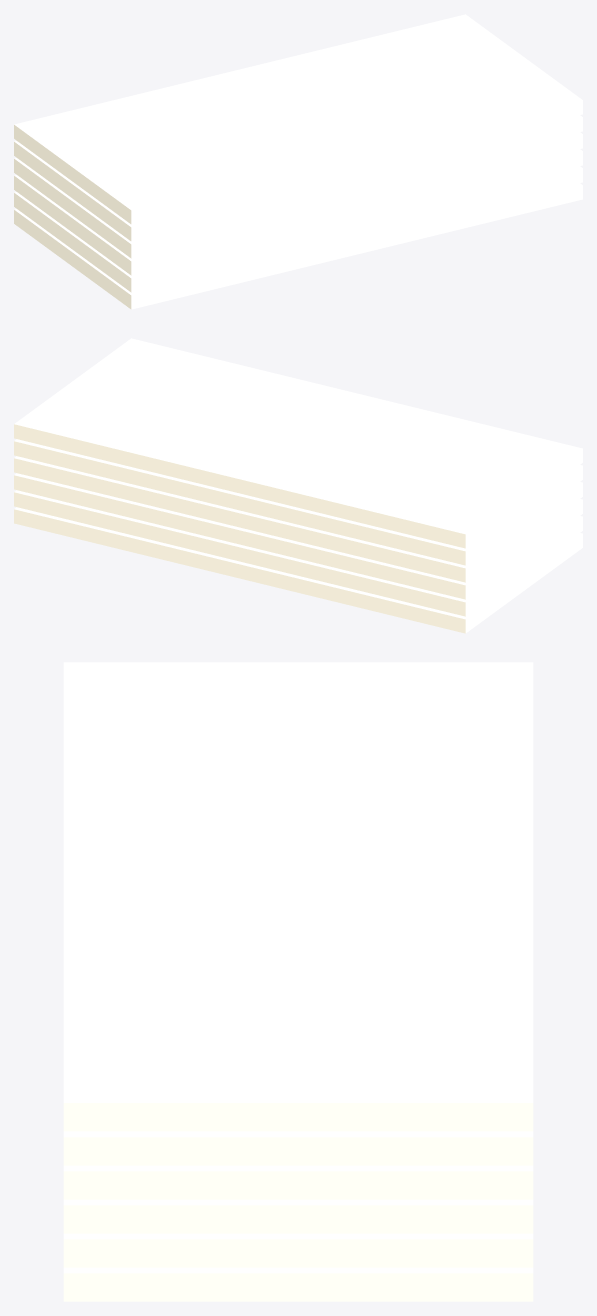
The picture shows the model from 3 angles, top to bottom: view 1: azimuth 30°, elevation 25°; view 2: azimuth 150°, elevation 25°; view 3: azimuth 270°, elevation 25°; orthographic projection. The views are drawn at different scales.
Size of the model in its own units: 0.4 by 0.084 by 0.18.
